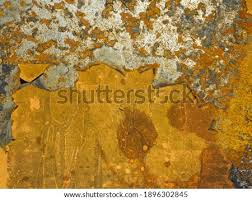rust: (9, 64, 252, 188), (197, 31, 252, 62), (29, 38, 92, 62), (121, 5, 163, 35), (4, 26, 22, 68)
